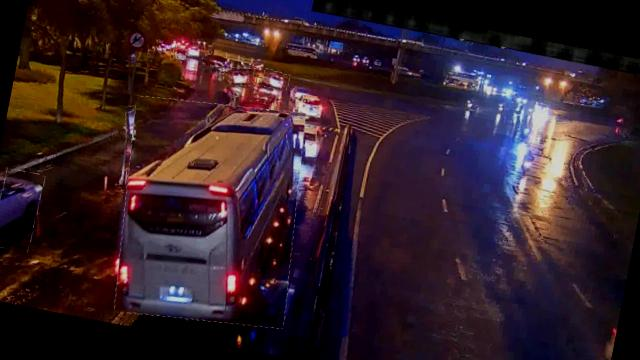Bike: (122, 103, 151, 141)
Bus: (101, 85, 319, 338)
Car: (0, 167, 44, 253), (260, 68, 290, 91), (254, 78, 282, 102), (227, 66, 255, 88)
